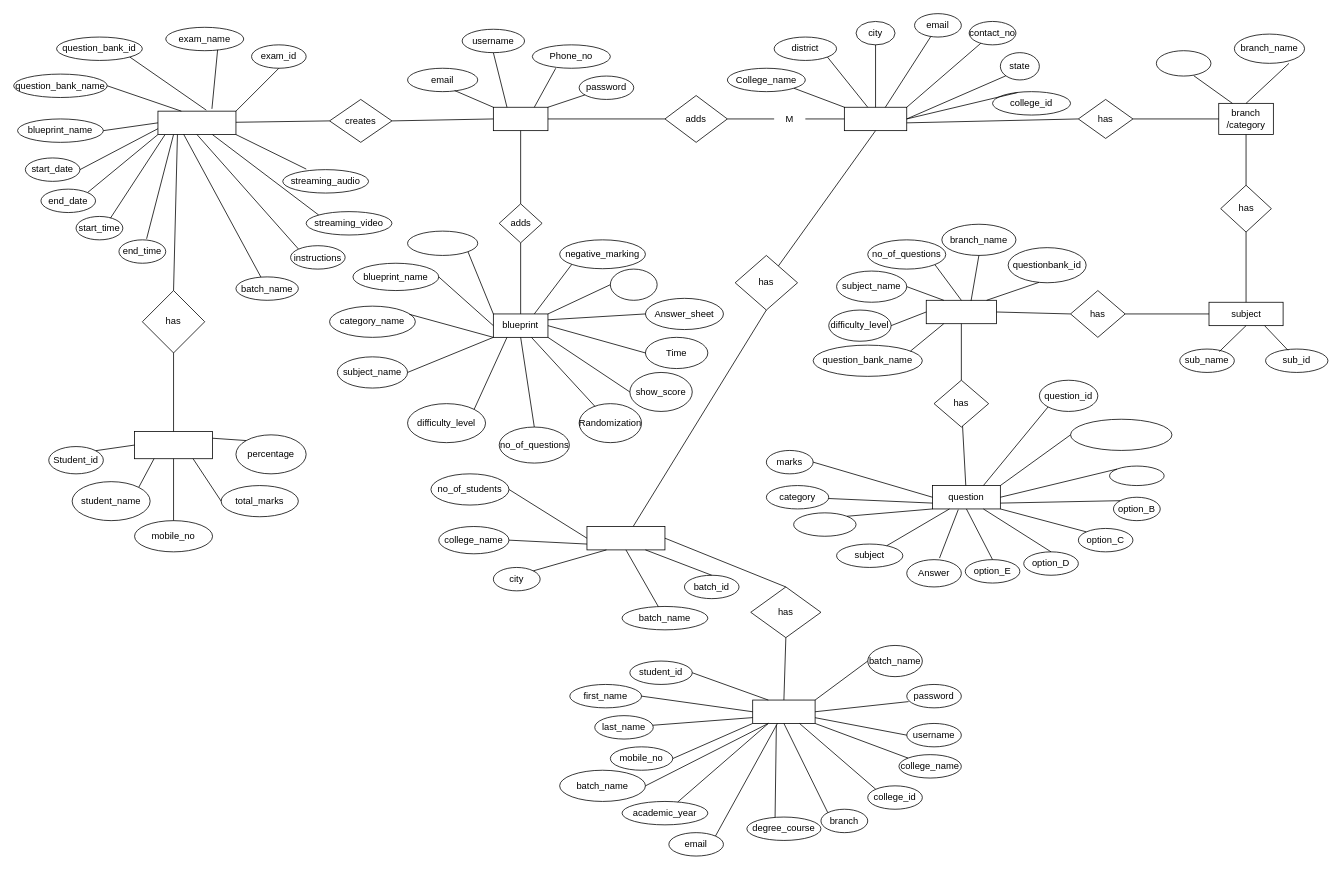
Some shapes in this 1342 by 870 pixel diagram are drawn without their labels. The centre of each missing label's shape, as x and y in pixels:
"admin" belongs at point (520, 118).
"batch" belongs at point (625, 538).
"branch_id" belongs at point (1183, 63).
"college" belongs at point (875, 118).
"Difficulty level" belongs at point (824, 524).
"duration" belongs at point (633, 284).
"exam_result" belongs at point (173, 445).
"exam_schedule" belongs at point (196, 122).
"option_A" belongs at point (1136, 475).
"question_bank" belongs at point (960, 312).
"question_description" belongs at point (1121, 434).
"send_email" belongs at point (442, 242).
"student" belongs at point (783, 711).
